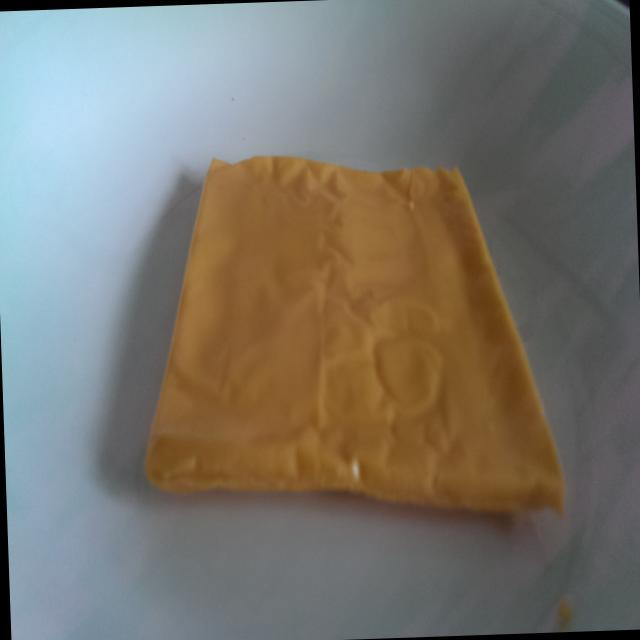Cheese: (126, 133, 574, 546)
